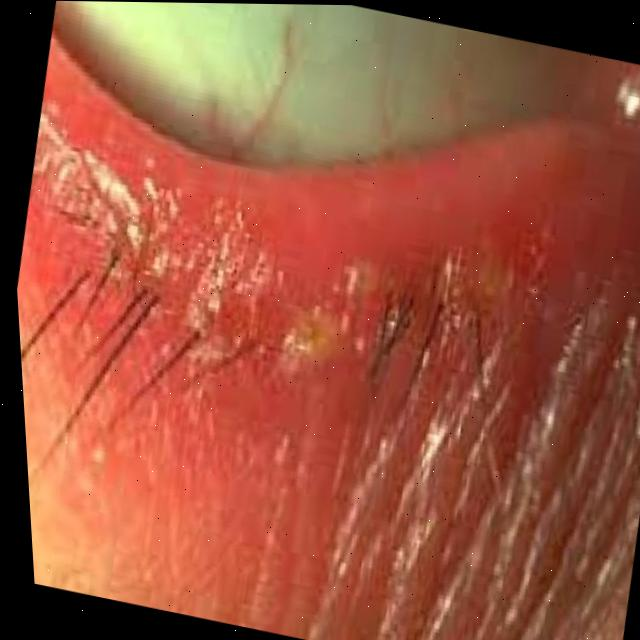Rosacea: (205, 238, 432, 389)
